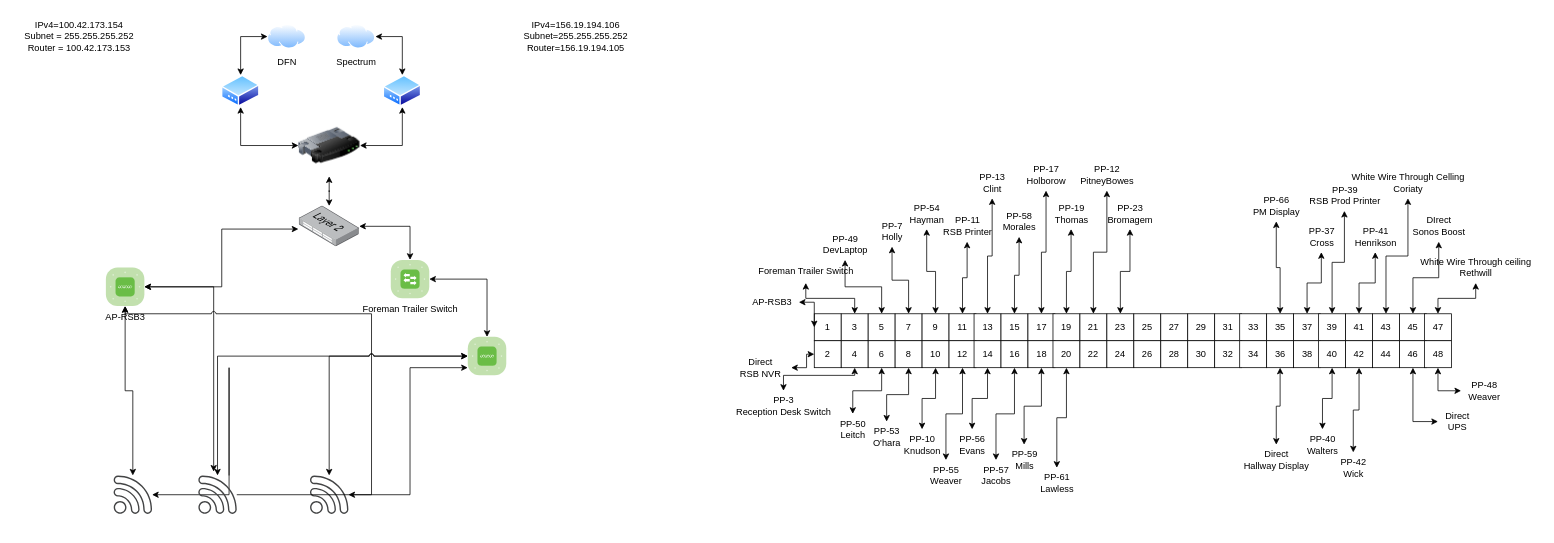
This 1554x543 diagram has some shape labels left out. The shapes that lost their labels are listed below. From the top down, each one's box as (x1, y1, x2, y2) in pixels, then its label:
(298, 114, 360, 176): UDM Pro(Roseburg)
(467, 336, 506, 375): AP-RSB2
(113, 475, 152, 514): TerraFirma
(198, 475, 236, 514): TerraFirma Public
(310, 475, 348, 514): TerraFirma Guest
